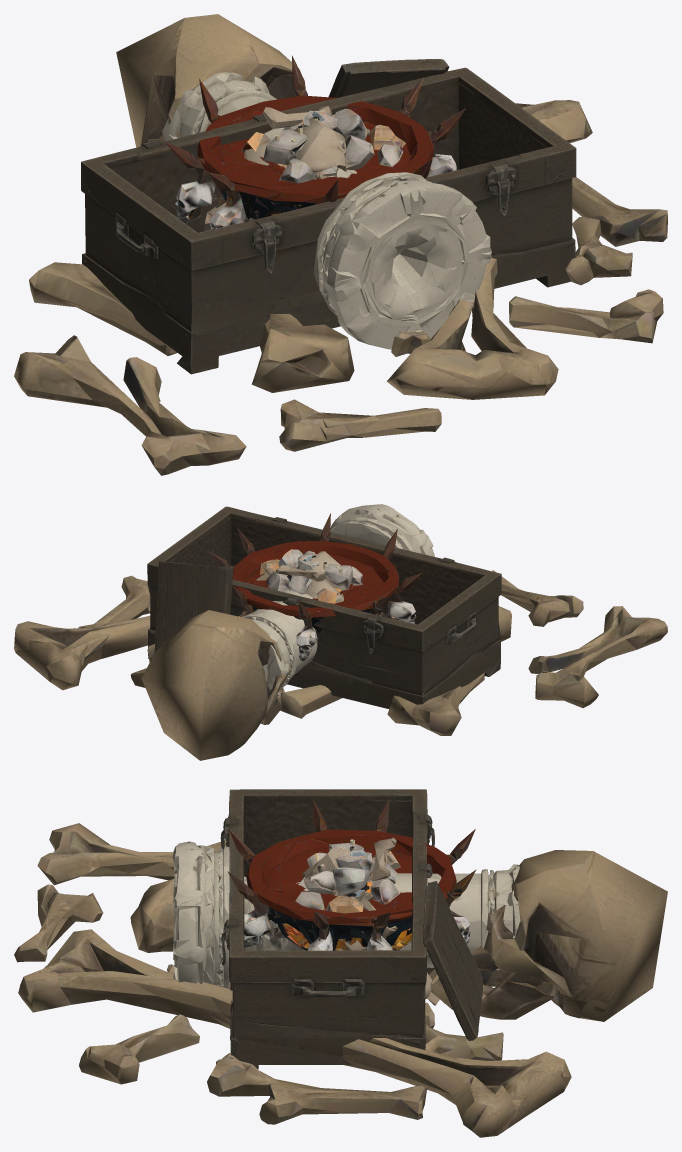
The model's file is gotico.glb.
The picture shows the model from 3 angles, top to bottom: view 1: azimuth 30°, elevation 25°; view 2: azimuth 150°, elevation 25°; view 3: azimuth 270°, elevation 25°; orthographic projection. The views are drawn at different scales.
Visible parts, largest first — view 1: bones, coffin, column, brazier, skulls; view 2: bones, coffin, brazier, column, skulls; view 3: bones, coffin, brazier, column, skulls.
Boxes of the visible parts, bbox=[...] form: bones: bbox=[14, 14, 667, 475]; coffin: bbox=[81, 59, 576, 374]; column: bbox=[162, 72, 491, 349]; brazier: bbox=[164, 55, 465, 229]; skulls: bbox=[203, 105, 369, 230]; bones: bbox=[14, 570, 667, 760]; coffin: bbox=[147, 506, 501, 708]; brazier: bbox=[206, 513, 422, 661]; column: bbox=[243, 504, 434, 696]; skulls: bbox=[256, 551, 351, 700]; bones: bbox=[14, 823, 667, 1137]; coffin: bbox=[220, 789, 483, 1069]; brazier: bbox=[227, 799, 476, 950]; column: bbox=[172, 841, 520, 988]; skulls: bbox=[305, 837, 444, 1005].
Bounding box in the file's own units: 4.48 × 1 × 4.13.
Materials: 8 (8 with a texture image).
